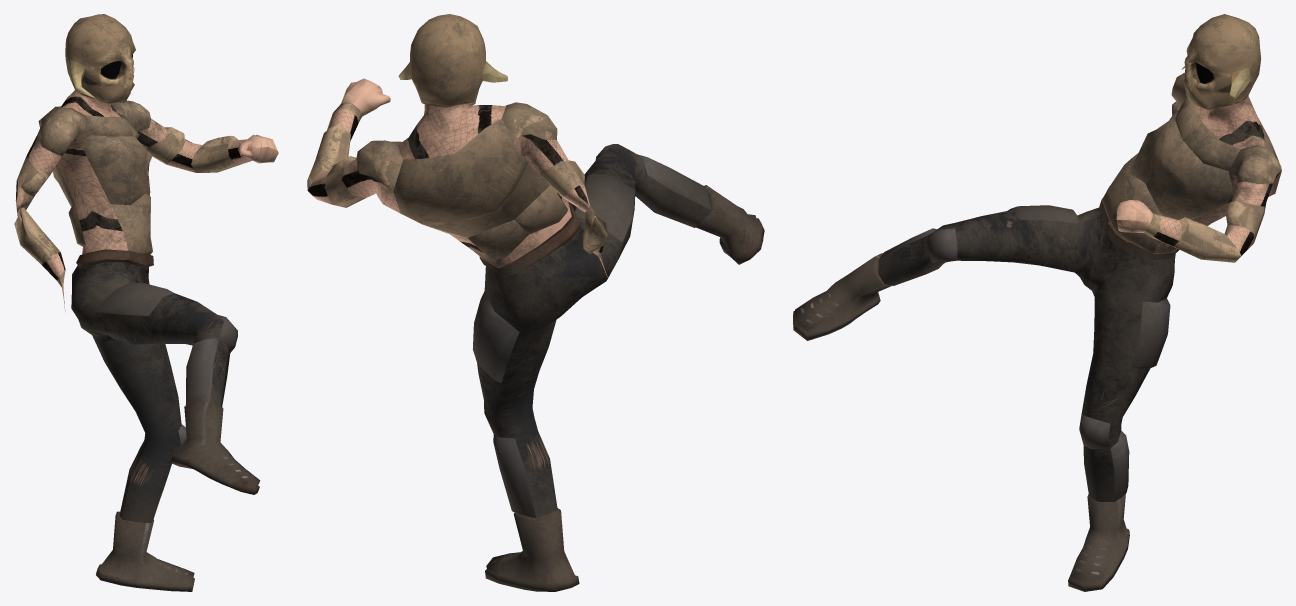
Rendered from Anim_ataque_f2_npc1.0016.obj.
3 views of the same model, side by side, from view 1: azimuth 30°, elevation 25°; view 2: azimuth 150°, elevation 25°; view 3: azimuth 270°, elevation 25° (orthographic). The views are drawn at different scales.
Parts seen in each view (by area): view 1: NPC2; view 2: NPC2; view 3: NPC2.
Part boxes in pixels (bbox=[...]): NPC2: bbox=[14, 14, 278, 591]; NPC2: bbox=[307, 14, 764, 591]; NPC2: bbox=[793, 14, 1281, 591].
Bounding box in the file's own units: 4.35 × 9.21 × 7.32.
